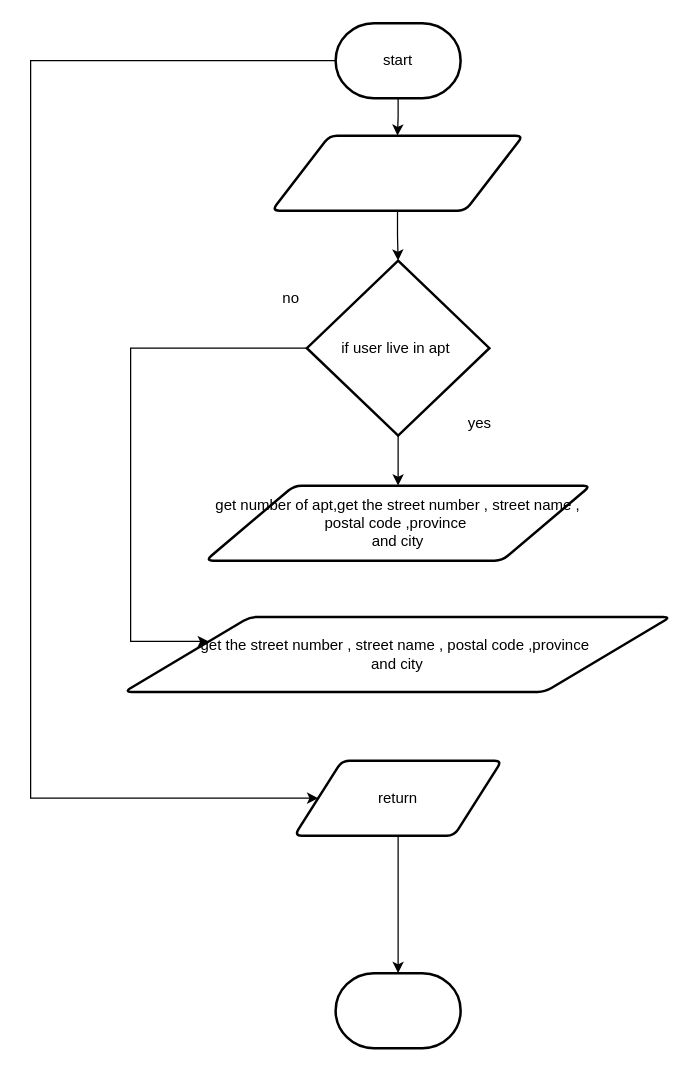
This 694x1070 diagram has some shape labels left out. The centre of each missing label's shape, as x and y in pixels:
get name of user: pixel 397 172
stop: pixel 397 1010
